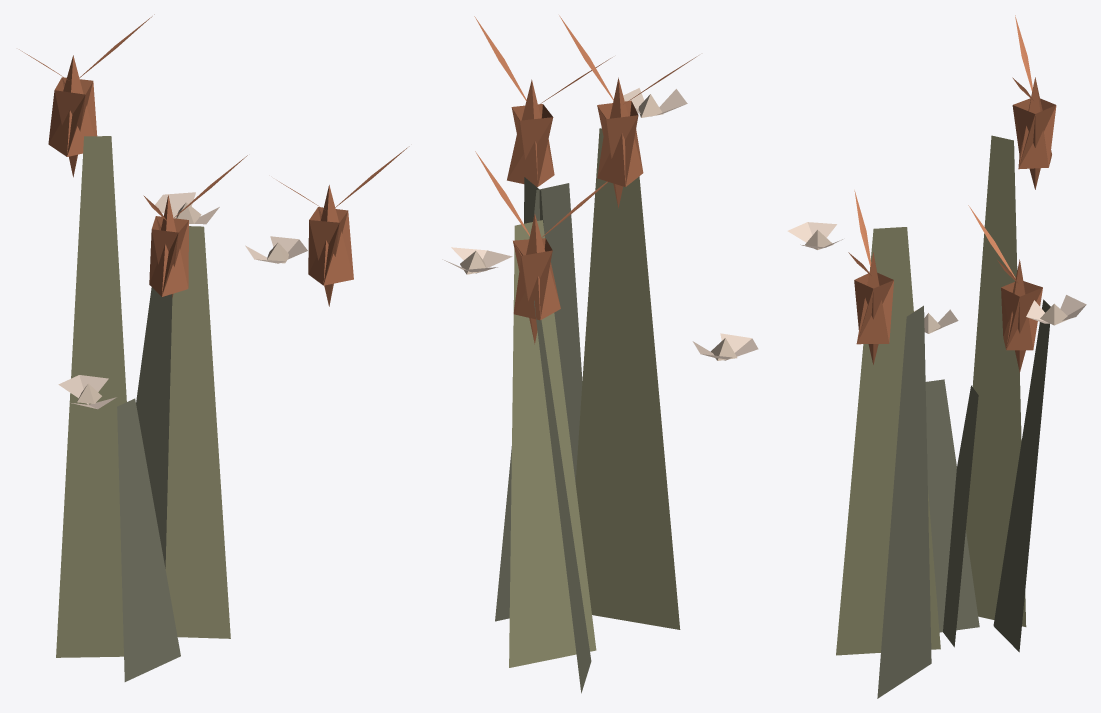
The model's file is nong.mai__winter.glb.
The picture shows the model from 3 angles, left to right: view 1: azimuth 30°, elevation 25°; view 2: azimuth 150°, elevation 25°; view 3: azimuth 270°, elevation 25°; orthographic projection. The views are drawn at different scales.
Parts seen in each view (by area): view 1: nong.mai__winter; view 2: nong.mai__winter; view 3: nong.mai__winter.
Part boxes in pixels (x1,y1,x2,y2): nong.mai__winter: (19,14,409,681); nong.mai__winter: (442,15,758,693); nong.mai__winter: (787,15,1086,698).
Size of the model in its own units: 0.5635 by 1.09 by 0.5144.
